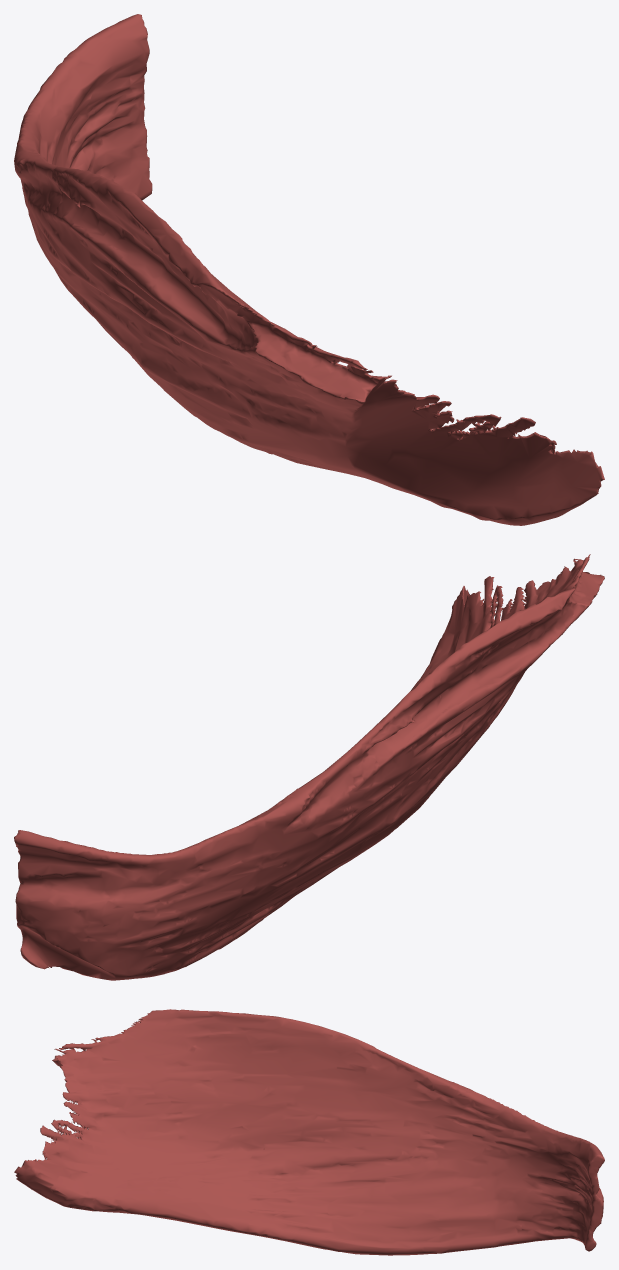
File: FMA45856.glb
3 renders of one model, top to bottom at view 1: azimuth 30°, elevation 25°; view 2: azimuth 150°, elevation 25°; view 3: azimuth 270°, elevation 25°, orthographic. The views are drawn at different scales.
Visible parts, largest first — view 1: FMA45856; view 2: FMA45856; view 3: FMA45856.
Part boxes in pixels (x1=…): FMA45856: x1=14, y1=14, x2=604, y2=525; FMA45856: x1=14, y1=554, x2=604, y2=980; FMA45856: x1=14, y1=1009, x2=604, y2=1255.
Bounding box in the file's own units: 0.0294 × 0.0293 × 0.0818.
